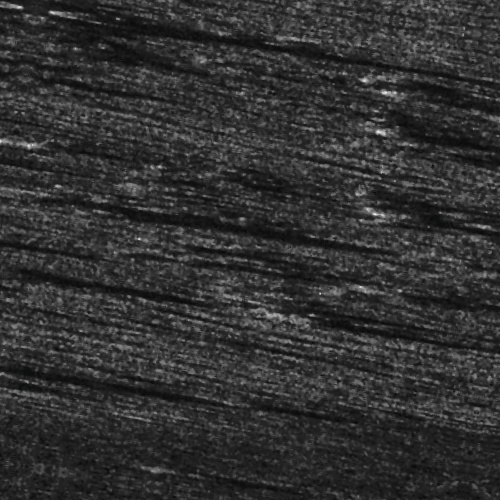object: (317, 104, 432, 113), (122, 260, 227, 269), (0, 222, 53, 235), (213, 395, 286, 404), (0, 411, 69, 420), (170, 475, 243, 482), (0, 398, 42, 409), (18, 38, 59, 47), (273, 303, 314, 312), (380, 60, 401, 77), (343, 262, 406, 267), (218, 295, 271, 298), (364, 187, 375, 196), (0, 110, 16, 115), (489, 54, 500, 61)
shadow: (0, 222, 345, 235), (0, 41, 324, 50), (1, 398, 248, 409), (0, 301, 196, 314), (391, 60, 500, 77), (294, 303, 458, 312), (175, 260, 333, 269), (370, 187, 500, 196), (375, 104, 500, 113), (207, 475, 365, 482), (0, 270, 64, 287), (250, 395, 358, 404), (16, 411, 116, 420), (1, 110, 149, 115), (245, 295, 461, 298), (375, 262, 487, 267), (39, 38, 89, 47), (0, 199, 77, 202)
